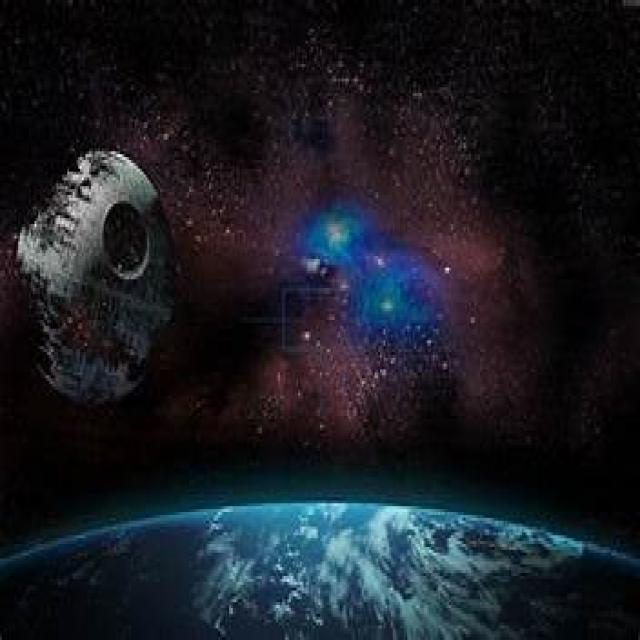deathStar: (13, 148, 175, 412)
